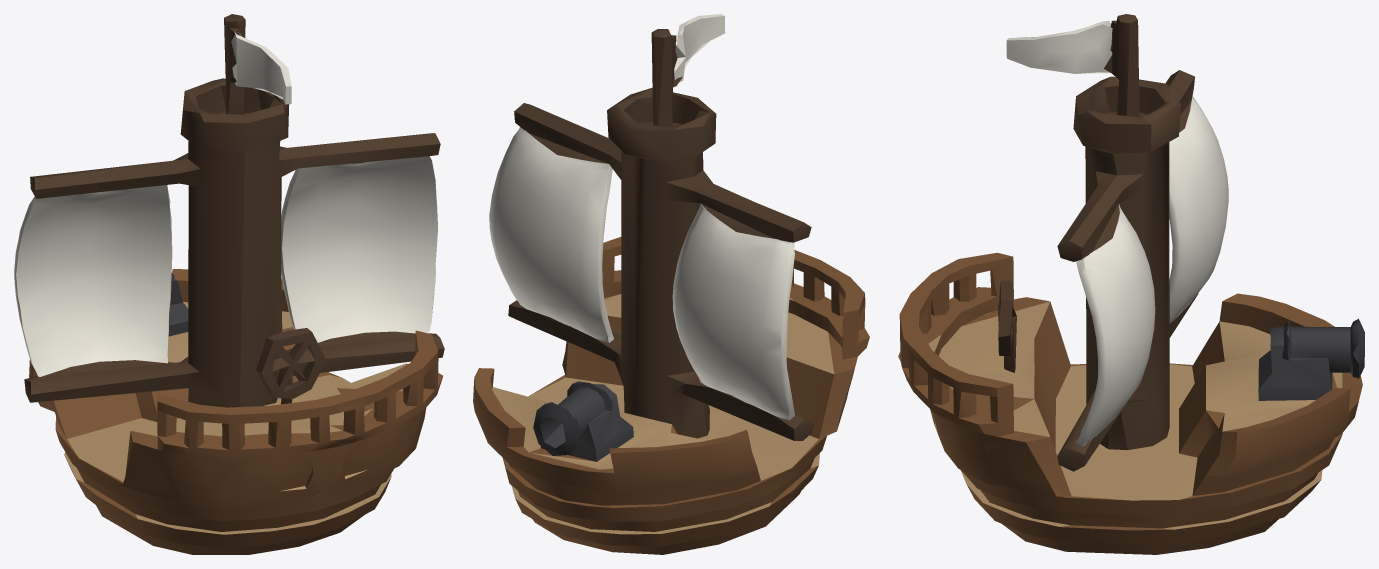
The model's file is ship-lod.glb.
The picture shows the model from 3 angles, left to right: view 1: azimuth 30°, elevation 25°; view 2: azimuth 150°, elevation 25°; view 3: azimuth 270°, elevation 25°; orthographic projection. The views are drawn at different scales.
Visible parts, largest first — view 1: hull, mast, sail_port, sail_starboard, flag, cannon; view 2: hull, mast, sail_port, sail_starboard, cannon, flag; view 3: hull, mast, sail_starboard, sail_port, cannon, flag.
Part boxes in pixels (<box>): hull: <box>29,269,442,554</box>; mast: <box>24,14,444,407</box>; sail_port: <box>14,185,172,376</box>; sail_starboard: <box>281,156,437,342</box>; flag: <box>231,31,291,104</box>; cannon: <box>168,273,188,336</box>; hull: <box>473,237,869,554</box>; mast: <box>508,29,813,440</box>; sail_port: <box>672,203,794,420</box>; sail_starboard: <box>489,127,613,342</box>; cannon: <box>533,381,633,461</box>; flag: <box>674,14,725,82</box>; hull: <box>898,252,1362,554</box>; mast: <box>998,14,1198,471</box>; sail_starboard: <box>1075,204,1155,446</box>; sail_port: <box>1169,96,1228,323</box>; cannon: <box>1258,318,1364,400</box>; flag: <box>1006,20,1112,73</box>.
Size of the model in its own units: 0.9341 by 1.15 by 1.
